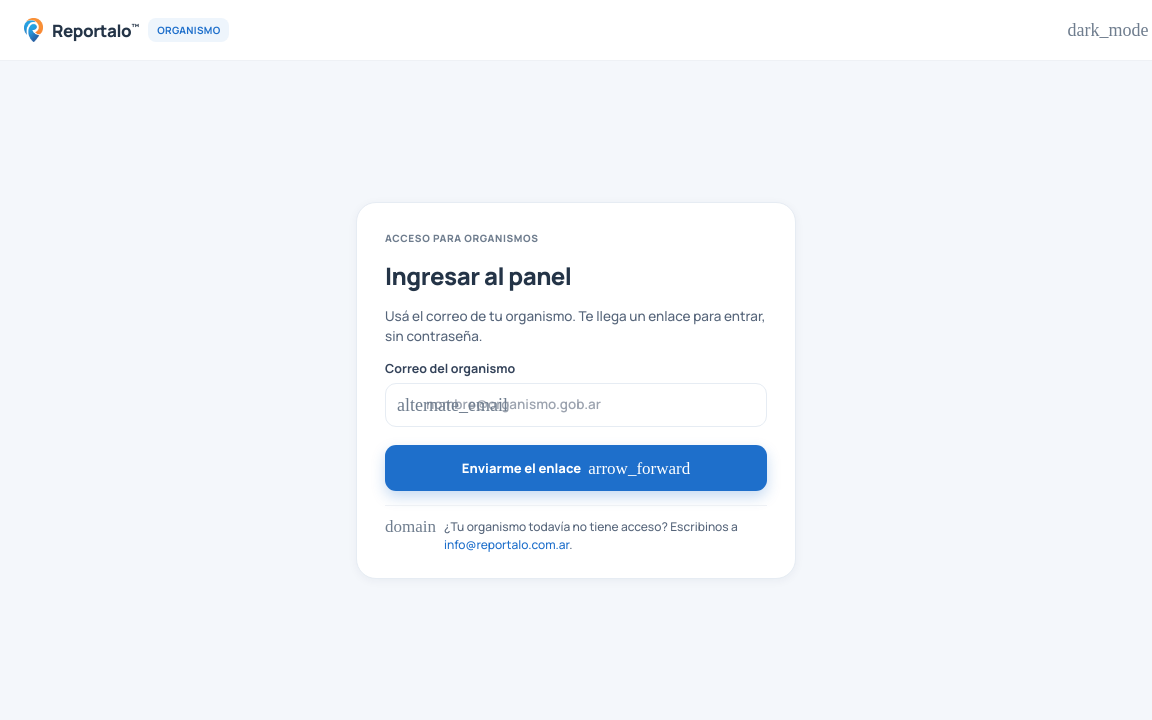
Test: REP-3747 · ingreso del panel › UT-3747-I2: un correo sin cuenta recibe la misma respuesta (no se puede averiguar quién es operador)
The width and height of the screenshot is (1152, 720).
Type "nadie@ejemplo.com" into the field labelled "Correo del organismo" at x=576, y=405, box [385,383,767,427]
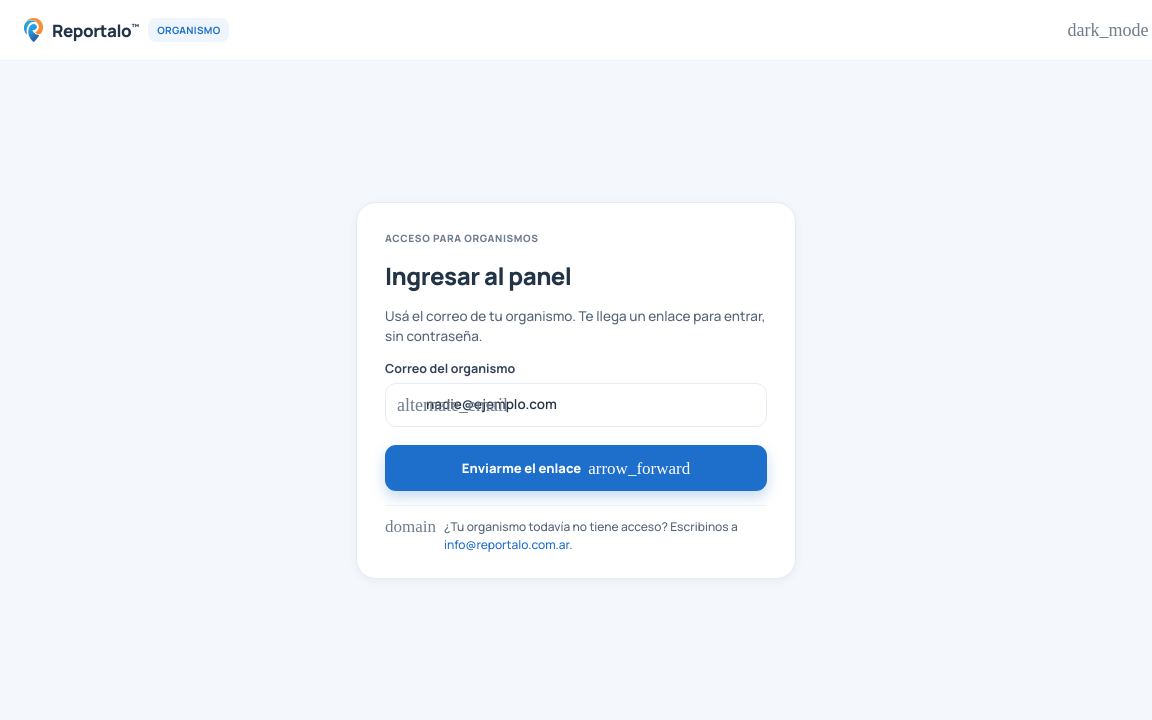
Click the button "Enviarme el enlace" at x=576, y=468, box [385,445,767,491]
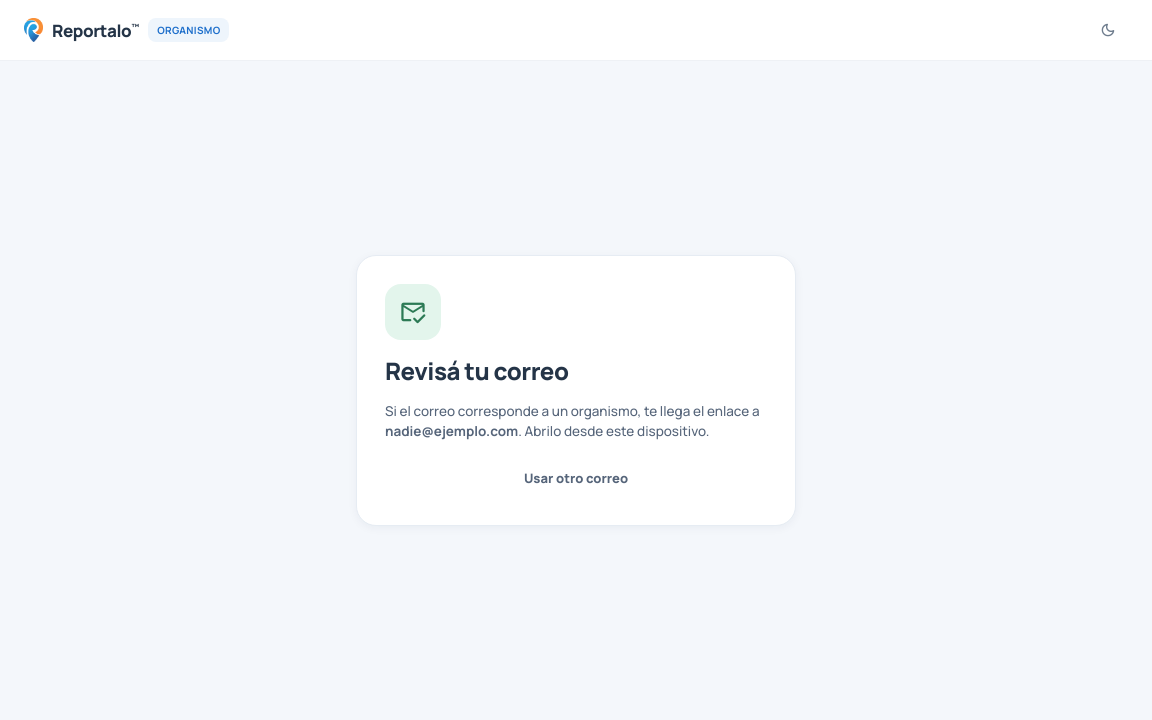
Check: the heading "Revisá tu correo" is shown, box [385,354,568,387]
